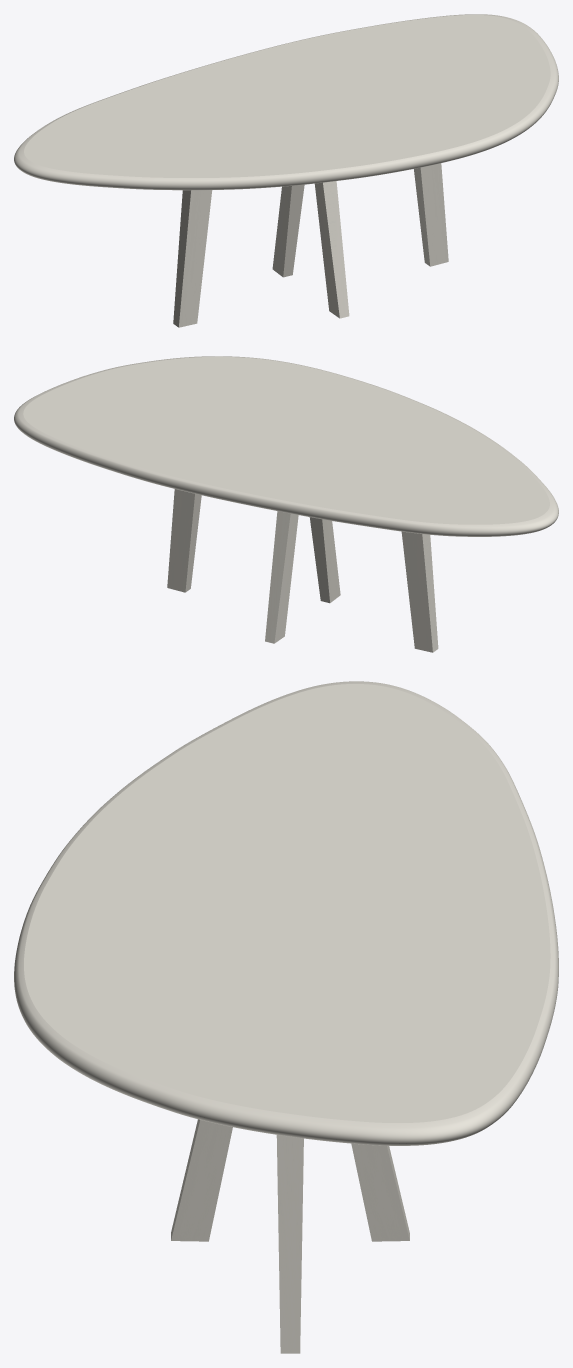
Rendered from pale_pebbletop_round_searwalnut.glb.
3 renders of one model, top to bottom at view 1: azimuth 30°, elevation 25°; view 2: azimuth 150°, elevation 25°; view 3: azimuth 270°, elevation 25°, orthographic. The views are drawn at different scales.
Visible parts, largest first — view 1: round_pebbletop, searwalnut; view 2: round_pebbletop, searwalnut; view 3: round_pebbletop, searwalnut.
Boxes of the visible parts, <box> form: round_pebbletop: <box>14,14,558,190</box>; searwalnut: <box>173,163,448,327</box>; round_pebbletop: <box>14,356,558,536</box>; searwalnut: <box>167,489,438,652</box>; round_pebbletop: <box>14,681,558,1145</box>; searwalnut: <box>171,1119,409,1353</box>.
Bounding box in the file's own units: 7.5 × 2.51 × 3.8.
1 material, 1 textured.
